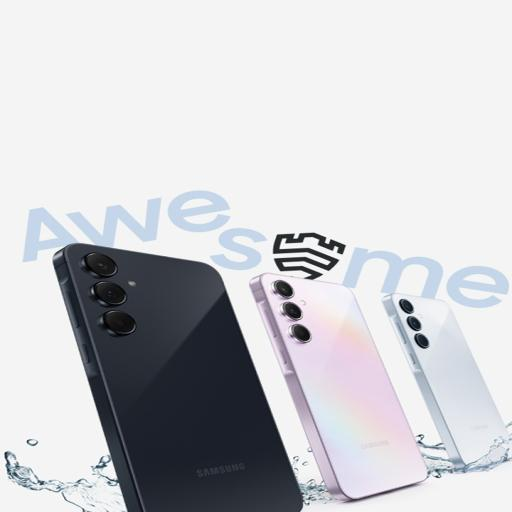phone: (44, 244, 299, 512)
